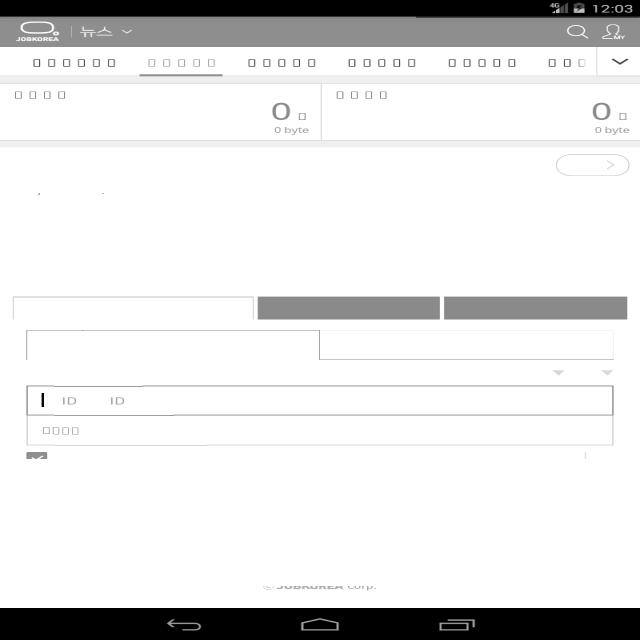EditText: (19, 382, 611, 420)
ImageButton: (565, 22, 599, 44)
ImageView: (11, 18, 63, 46)
TextView: (74, 22, 141, 42)
